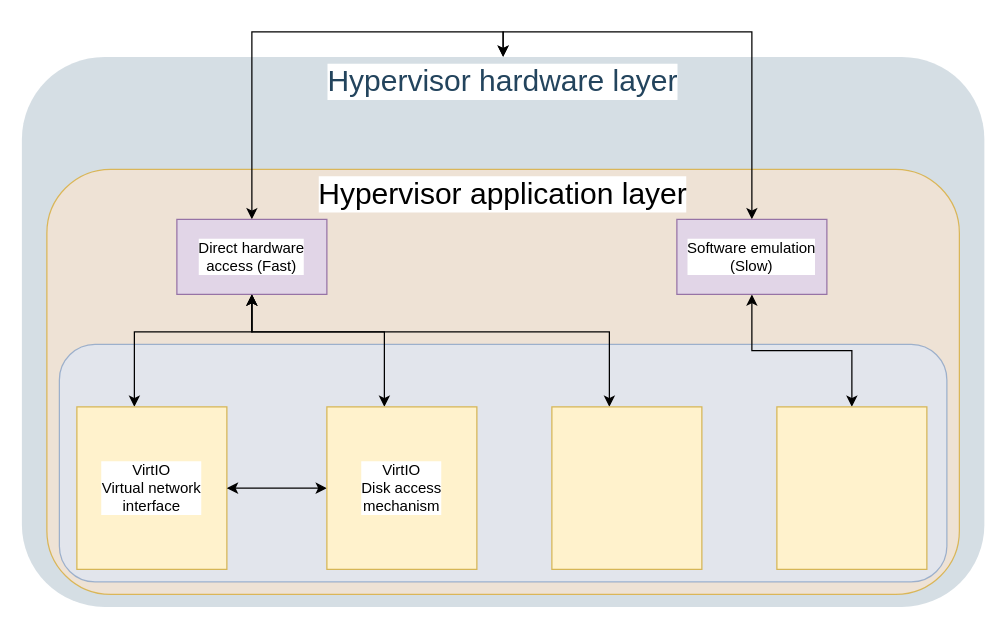
Image size: 1005x629. Some labels were removed from this diagram. Each missing label, with the box of its shape:
Guest hardware layer: (58, 343, 947, 582)
OVMF Virtual EFI platform: (776, 406, 927, 569)
QEMU Passthrough Mode: (551, 406, 702, 569)
